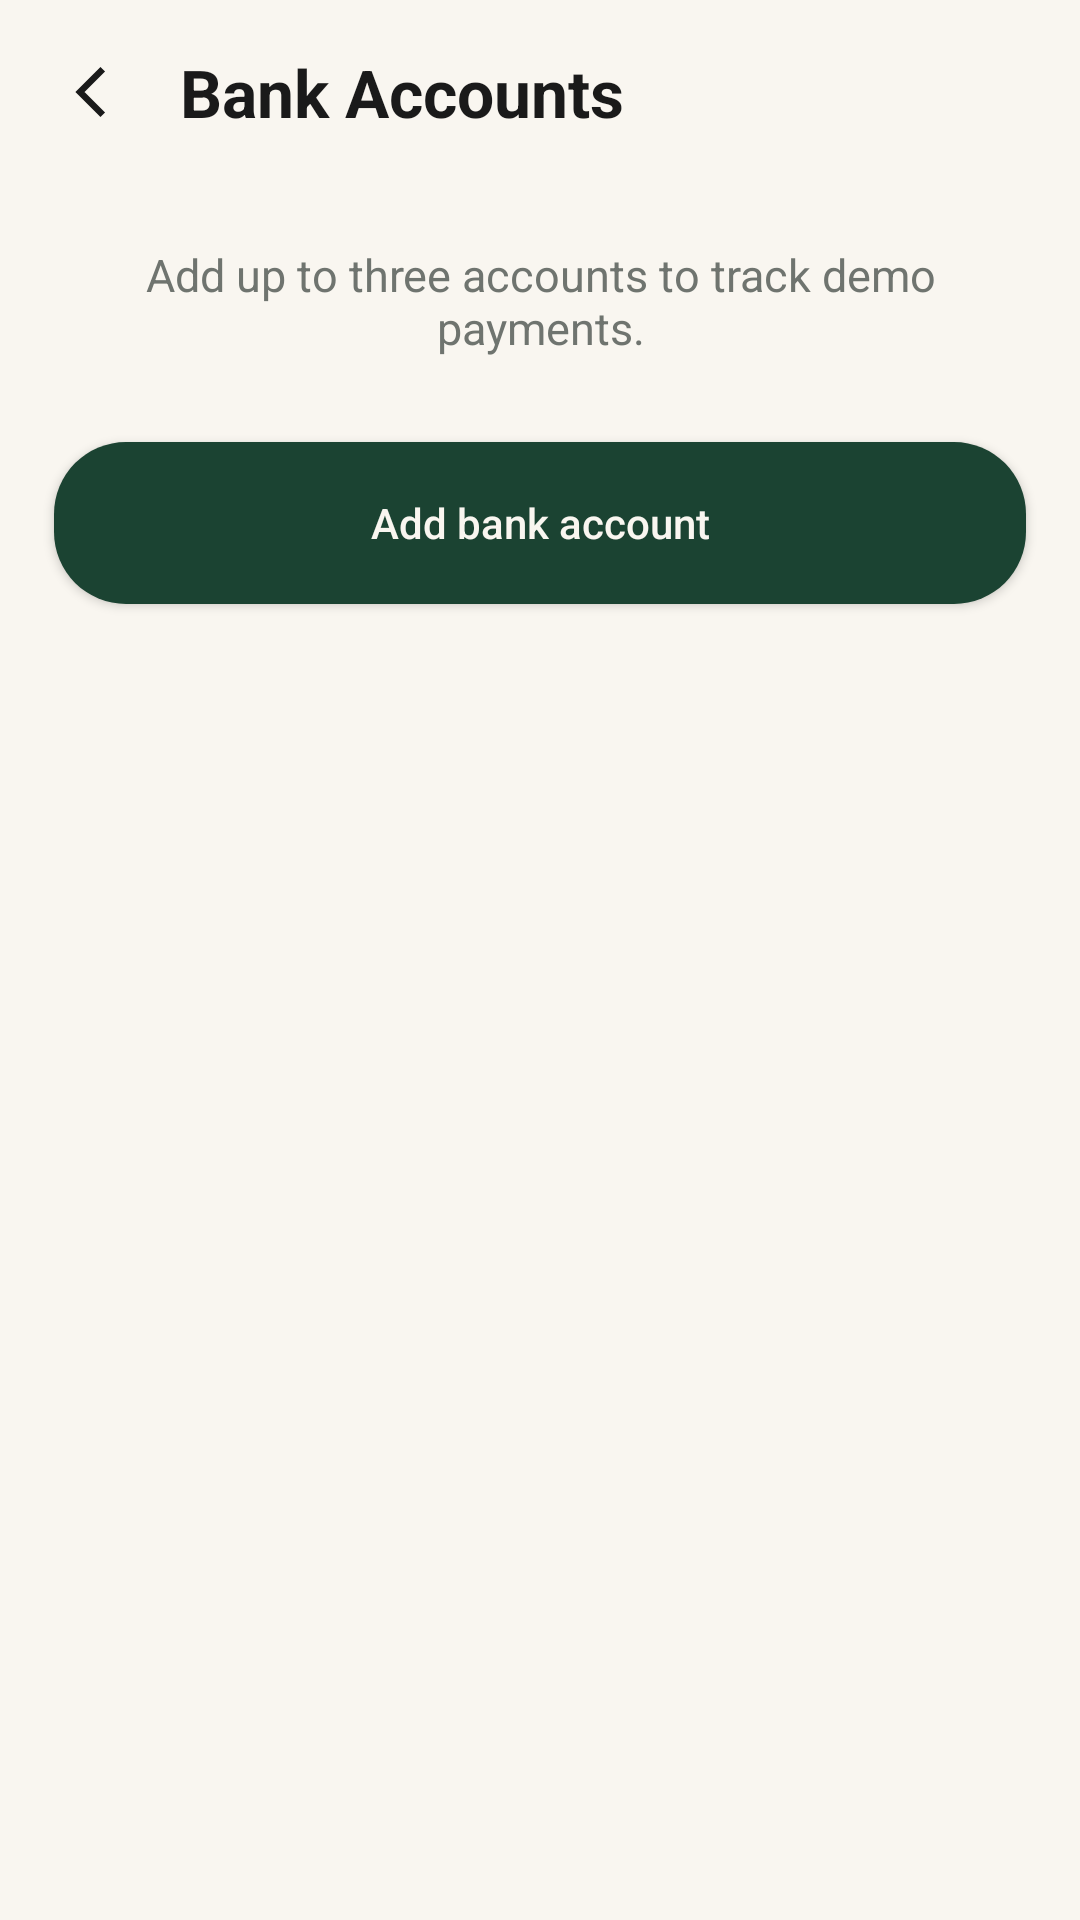

Where to tap for icons on this 1080px×1920px app screen, as point (x, y):
Back: point (90, 92)
